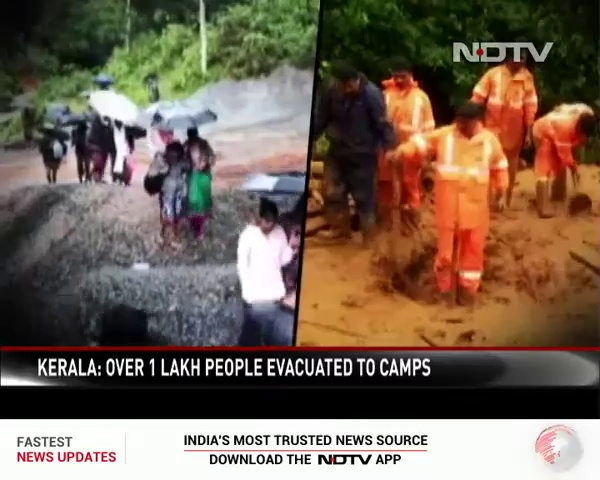person: (431, 102, 509, 302), (486, 56, 537, 207), (327, 68, 370, 241), (535, 95, 591, 215), (382, 67, 424, 226), (235, 198, 283, 295), (185, 128, 225, 239), (151, 142, 187, 239), (110, 118, 133, 185), (38, 131, 64, 186), (70, 124, 89, 177), (94, 124, 104, 183)
